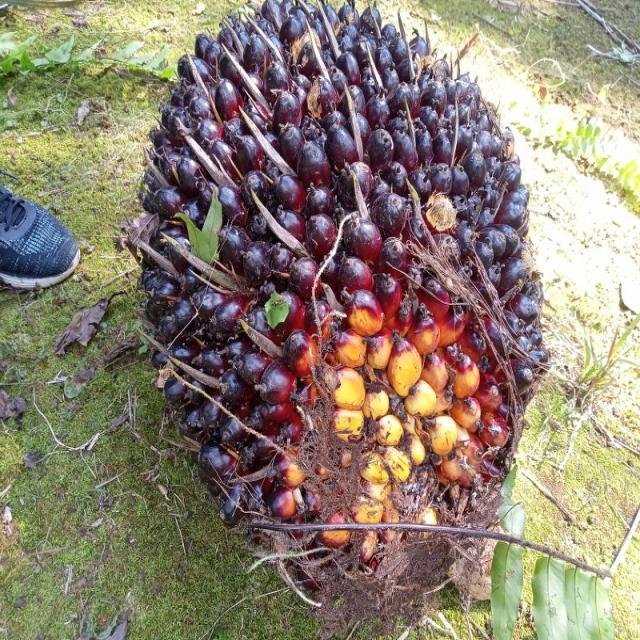fraksi 00: (134, 0, 534, 595)
